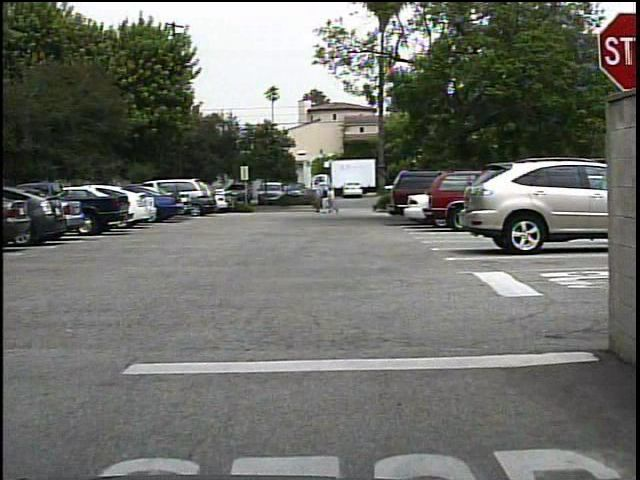person: (326, 186, 343, 216), (310, 186, 325, 215), (319, 186, 332, 217)
